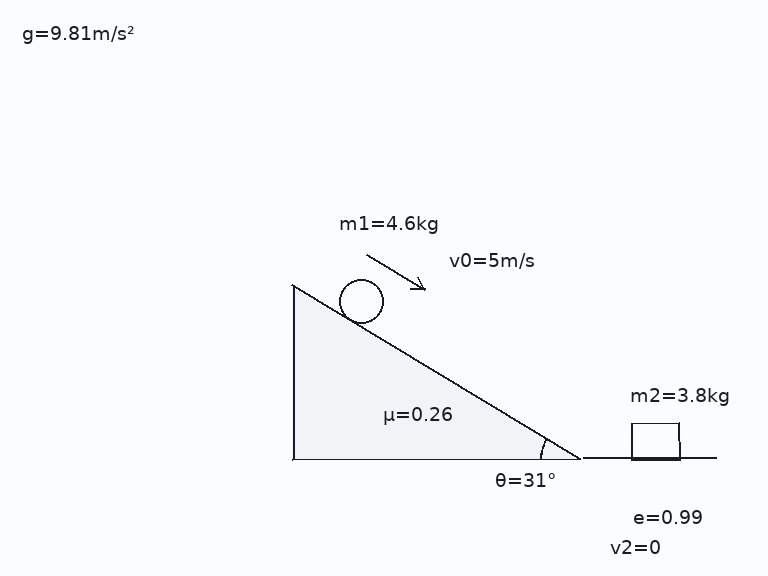ball: (337, 277, 385, 325)
block: (629, 421, 681, 461)
ramp: (291, 284, 583, 461)
